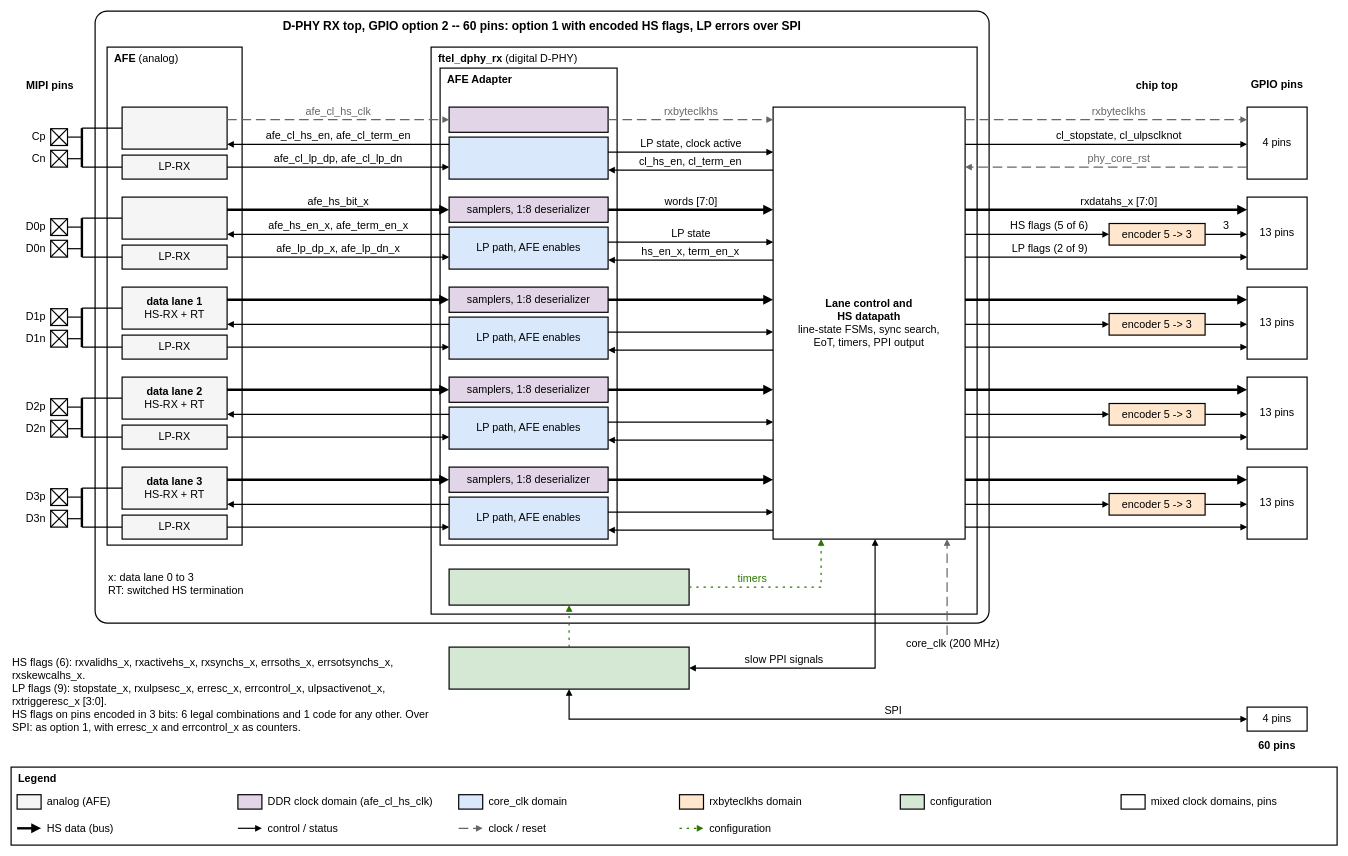
Some shapes in this 1348 by 856 pixel diagram are drawn without their labels. Here are the shapes that lost their labels. From the top down, the centre of each, then its label:
(x=174, y=127): clock lane HS-RX + RT
(x=528, y=119): byte clock, /4
(x=528, y=157): LP path, clock activity, AFE enables
(x=174, y=217): data lane 0 HS-RX + RT
(x=568, y=586): Configuration & Status
(x=568, y=667): SPI slave + registers (chip top) configuration, enables, slow PPI flags
